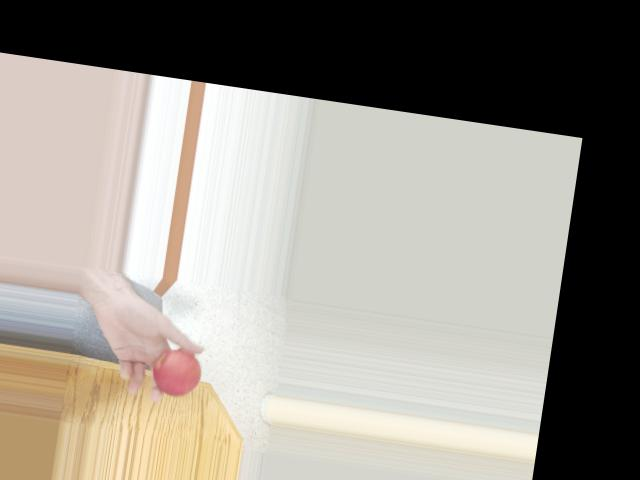apple: (149, 338, 208, 400)
